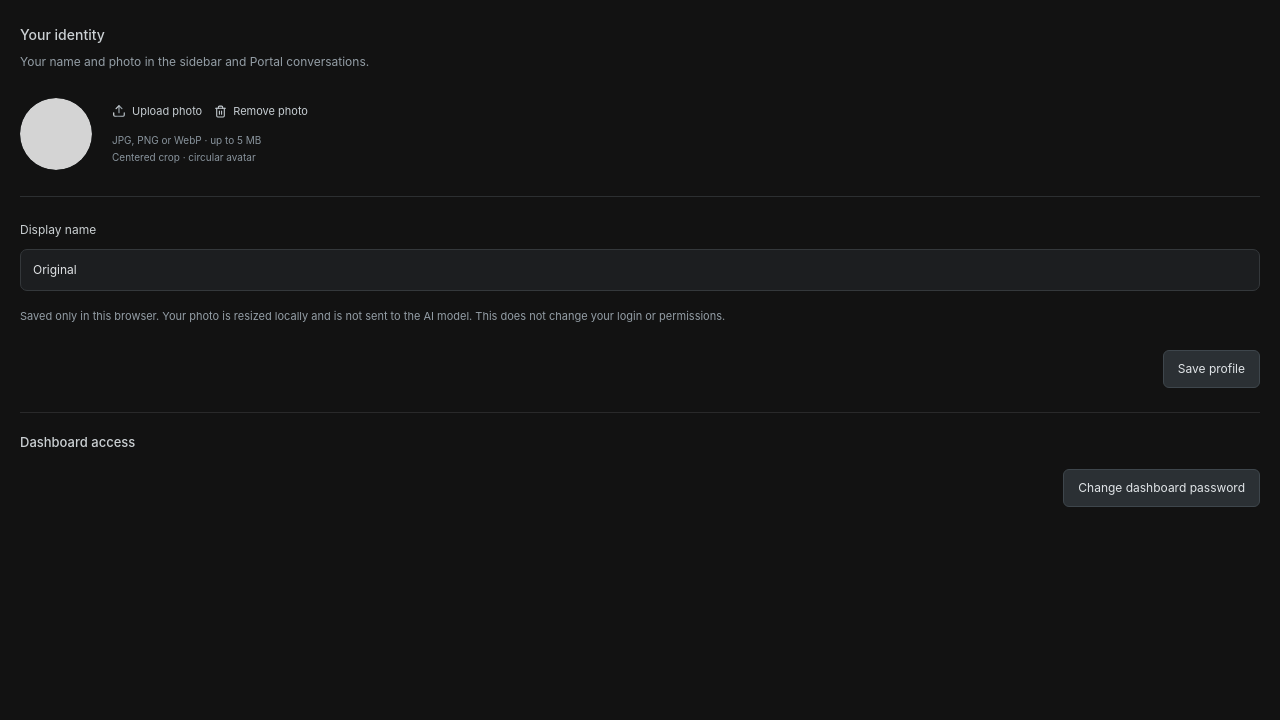
Test: preserves an unseen saved name while explicitly removing the photo
Click the button "Remove photo": click(261, 111) top-left (214, 103), bottom-right (308, 120)
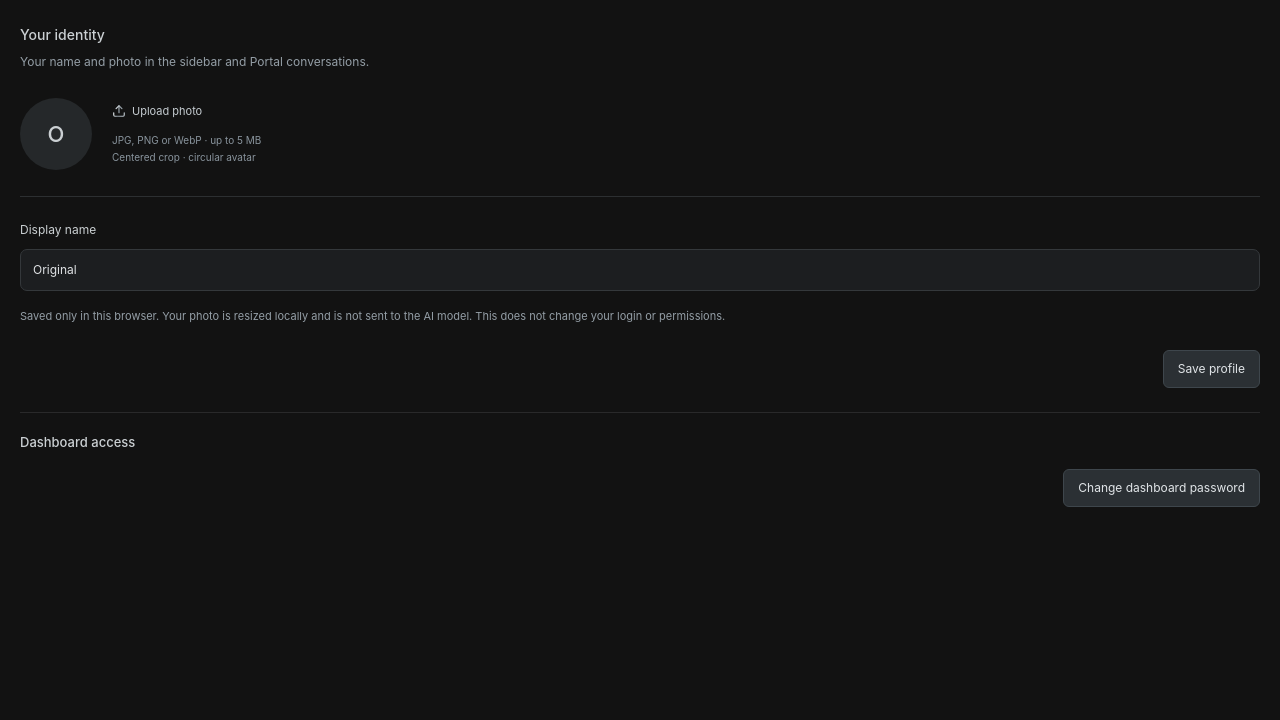
Click the button "Save profile": click(1211, 369) top-left (1163, 350), bottom-right (1260, 388)
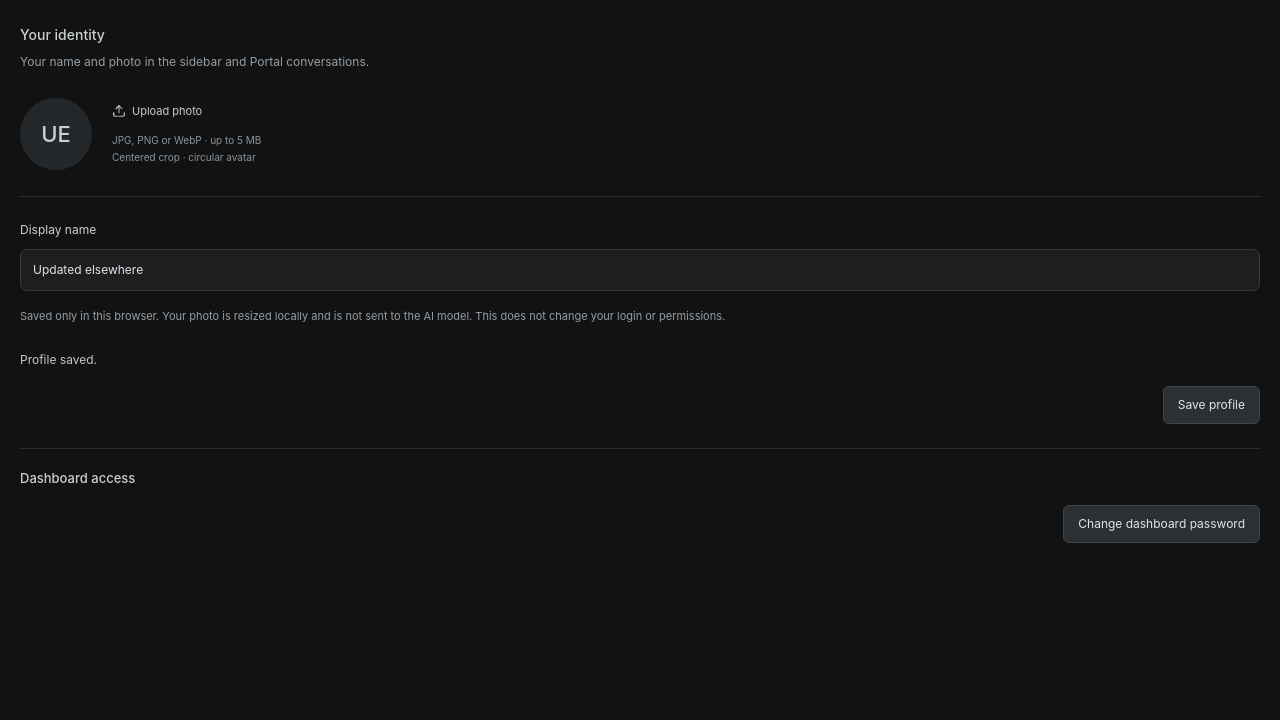
Expected: the field labelled "Display name" holds "Updated elsewhere", top-left (20, 249), bottom-right (1260, 291)
